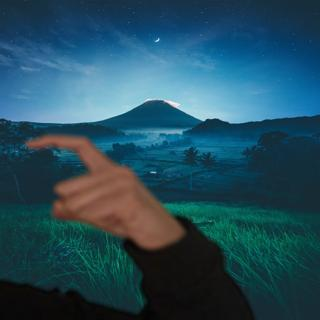WHY: (20, 124, 178, 245)
